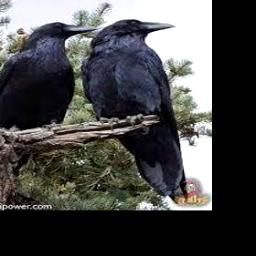Crow: (80, 19, 188, 201), (0, 22, 97, 132)
